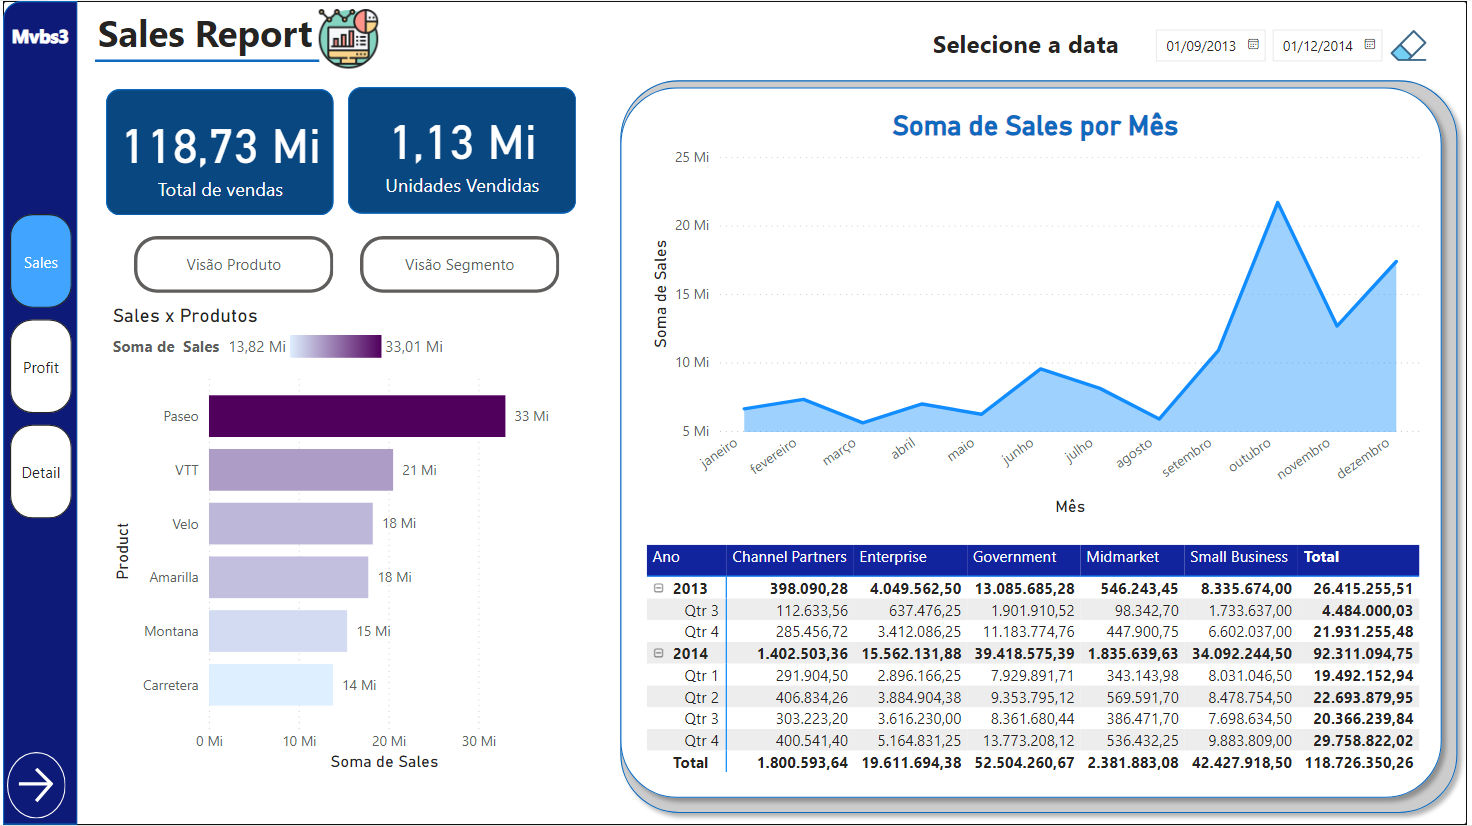

The page's visual inventory and layout, read from the dashboard file:
{"tool":"powerbi","page":{"name":"Sales","canvas":[1280,720],"ordinal":0},"visuals":[{"type":"slicer","fields":{"Values":["financials.Date"]},"box":[994.6,14.5,217.2,47],"z":0,"group":"g4"},{"type":"shape","box":[530.5,60.5,749.5,658.3],"z":0},{"type":"actionButton","title":"Botão Product","box":[114.2,205.5,174.4,49.7],"z":0,"group":"g1"},{"type":"actionButton","title":"Botão Segment","box":[311.9,205.7,174.4,49.7],"z":500,"group":"g1"},{"type":"shape","box":[0,0,65.2,719.8],"z":1000,"group":"g2"},{"type":"textbox","box":[807.5,17.2,187.1,55],"z":1000,"group":"g4"},{"type":"shape","box":[530.5,66.2,735.8,638.9],"z":1000},{"type":"shape","box":[90.1,76.8,199,110.3],"z":1000,"group":"g3"},{"type":"stackedAreaChart","fields":{"Category":["financials.Date.Variation.Hierarquia de datas.Mês"],"Y":["Sum(financials. Sales)"]},"box":[561.4,95.3,682.2,359.4],"z":1000,"group":"g6"},{"type":"group","id":"g1","title":"Botoes Sales segment","box":[114.2,205.5,371.7,50.1],"z":1000,"group":"g5"},{"type":"barChart","title":"Sales x Segment","fields":{"Category":["financials.Segment"],"Y":["Sum(financials. Sales)"]},"box":[98.2,274,412.3,405],"z":1250,"group":"g5"},{"type":"barChart","title":"Sales x Produtos","fields":{"Category":["financials.Product"],"Y":["Sum(financials. Sales)"]},"box":[90.5,265.1,416,413.1],"z":1500,"group":"g5"},{"type":"group","id":"g2","title":"Grupo 1","box":[0,0,65.2,719.8],"z":2000},{"type":"image","title":"Borracha","box":[1207.4,18,40.8,40.8],"z":2000,"group":"g4"},{"type":"shape","box":[301.3,75.3,199.5,110.7],"z":2000,"group":"g3"},{"type":"group","id":"g3","title":"Cartoes","box":[90.1,75.3,410.7,111.8],"z":3000},{"type":"card","fields":{"Values":["Sum(financials. Sales)"]},"box":[94.8,87.5,191.3,90.8],"z":3000,"group":"g3"},{"type":"shape","box":[80.6,38.3,196.5,27.5],"z":4000},{"type":"card","fields":{"Values":["Sum(financials.Units Sold)"]},"box":[304.9,84.3,192.7,90.3],"z":4000,"group":"g3"},{"type":"textbox","box":[77.6,0,306.5,76.6],"z":5000},{"type":"group","id":"g4","title":"Filtro por data","box":[807.5,14.5,439.9,57],"z":6000},{"type":"actionButton","box":[7.9,665,47.2,40.3],"z":7000},{"type":"group","id":"g5","title":"Sales x Segment","box":[90.5,205.5,420,473.4],"z":8000},{"type":"group","id":"g6","title":"SomaSales por mes","box":[561.4,95.3,682.2,359.4],"z":9000},{"type":"textbox","box":[2.9,15,74.7,38.3],"z":11000},{"type":"image","box":[271.1,0,61.9,65.8],"z":12000},{"type":"pivotTable","fields":{"Rows":["financials.Date.Variation.Hierarquia de datas.Ano","financials.Date.Variation.Hierarquia de datas.Trimestre"],"Values":["Sum(financials. Sales)"],"Columns":["financials.Segment"]},"box":[557.2,470.4,705.6,215],"z":13000},{"type":"pageNavigator","box":[5.7,186,54.8,268.1],"z":14000},{"type":"shape","box":[3.4,656,51.3,58.2],"z":15000}]}

Visuals, with their boxes in screenshot pixels (x1, y1, x2, y2), scaled from the page's 1280x720 canvas onto the 1472x826 screenshot:
slicer - financials.Date: <bbox>1144, 17, 1394, 71</bbox>
shape: <bbox>610, 69, 1471, 825</bbox>
"Botão Product" actionButton: <bbox>131, 236, 332, 293</bbox>
"Botão Segment" actionButton: <bbox>359, 236, 559, 293</bbox>
shape: <bbox>0, 0, 75, 825</bbox>
textbox: <bbox>929, 20, 1144, 83</bbox>
shape: <bbox>610, 76, 1456, 809</bbox>
shape: <bbox>104, 88, 332, 215</bbox>
stackedAreaChart - financials.Date.Variation.Hierarquia de datas.Mês x Sum(financials. Sales): <bbox>646, 109, 1430, 522</bbox>
"Botoes Sales segment" group: <bbox>131, 236, 559, 293</bbox>
"Sales x Segment" barChart: <bbox>113, 314, 587, 779</bbox>
"Sales x Produtos" barChart: <bbox>104, 304, 582, 778</bbox>
"Grupo 1" group: <bbox>0, 0, 75, 825</bbox>
"Borracha" image: <bbox>1389, 21, 1435, 67</bbox>
shape: <bbox>346, 86, 576, 213</bbox>
"Cartoes" group: <bbox>104, 86, 576, 215</bbox>
card - Sum(financials. Sales): <bbox>109, 100, 329, 205</bbox>
shape: <bbox>93, 44, 319, 75</bbox>
card - Sum(financials.Units Sold): <bbox>351, 97, 572, 200</bbox>
textbox: <bbox>89, 0, 442, 88</bbox>
"Filtro por data" group: <bbox>929, 17, 1435, 82</bbox>
actionButton: <bbox>9, 763, 63, 809</bbox>
"Sales x Segment" group: <bbox>104, 236, 587, 779</bbox>
"SomaSales por mes" group: <bbox>646, 109, 1430, 522</bbox>
textbox: <bbox>3, 17, 89, 61</bbox>
image: <bbox>312, 0, 383, 75</bbox>
pivotTable - financials.Date.Variation.Hierarquia de datas.Ano x financials.Date.Variation.Hierarquia de datas.Trimestre: <bbox>641, 540, 1452, 786</bbox>
pageNavigator: <bbox>7, 213, 70, 521</bbox>
shape: <bbox>4, 753, 63, 819</bbox>
